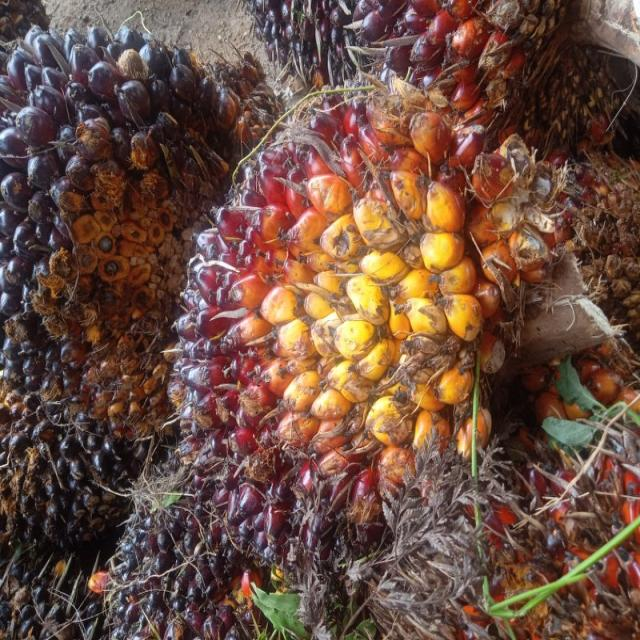fraksi 1: (163, 50, 552, 608)
